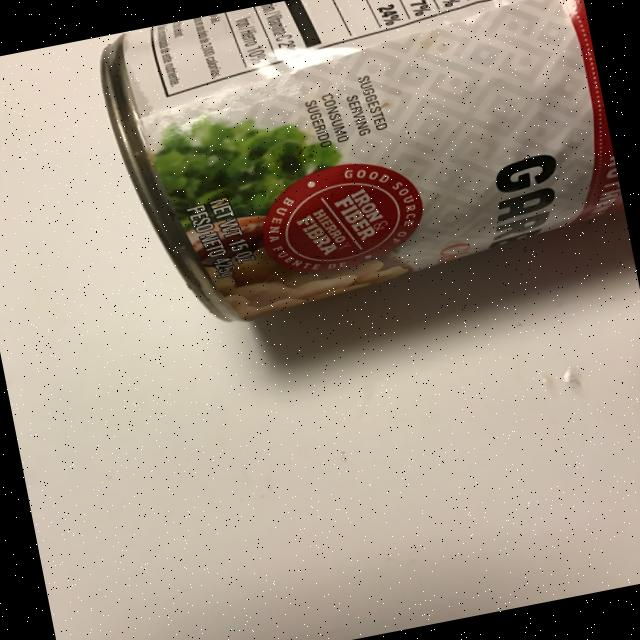metal: (91, 0, 630, 341)
